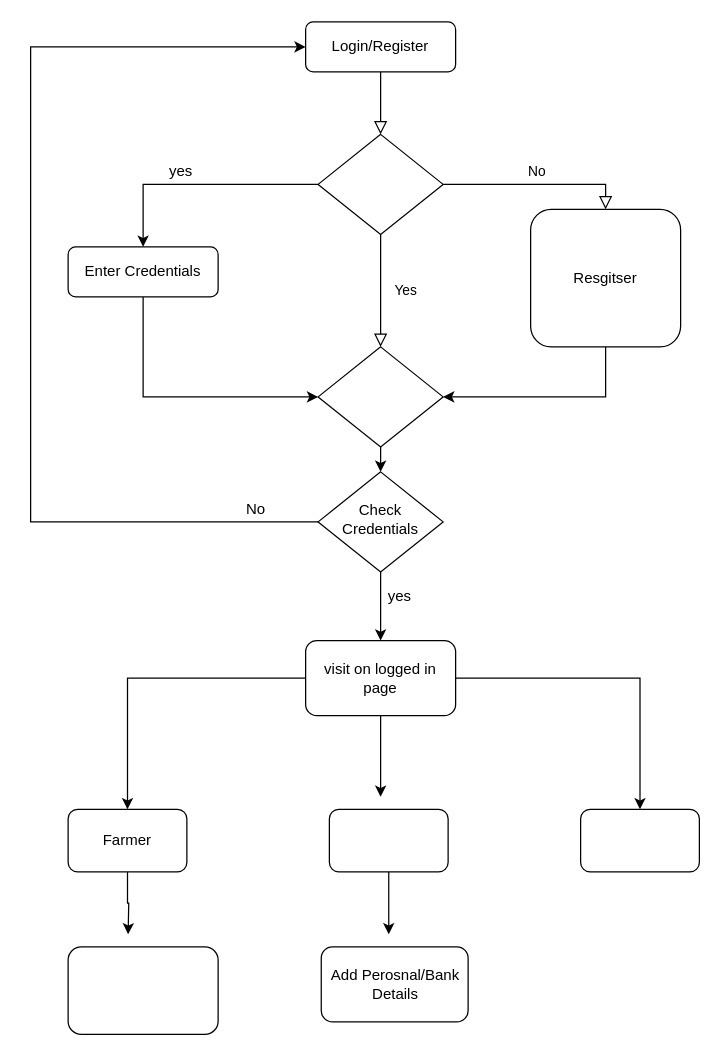
This 721x1056 diagram has some shape labels left out. Each missing label, with the centre of its shape:
Add Personal/Bank/Crop Details: point (142, 990)
Admin: point (388, 840)
Dealer: point (639, 840)
Register or not: point (380, 183)
